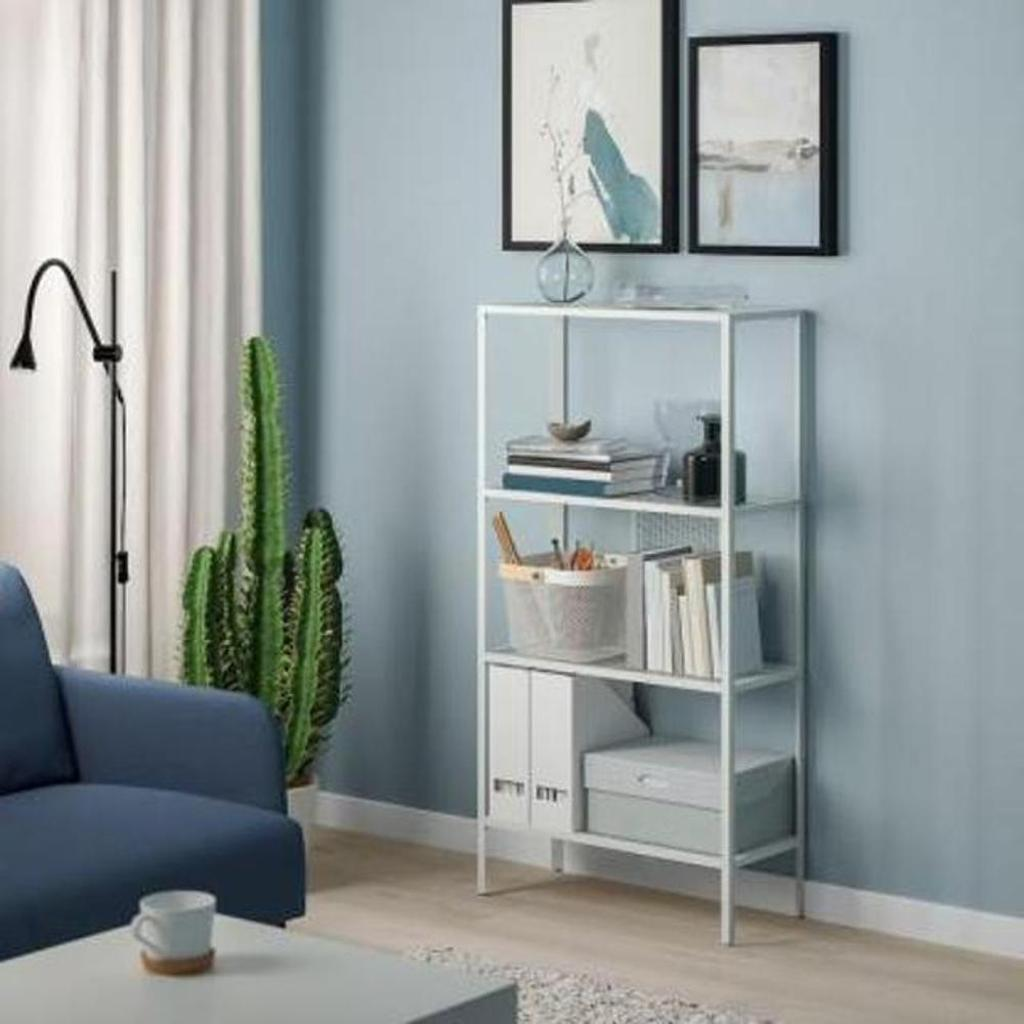lamp: (474, 297, 816, 951)
